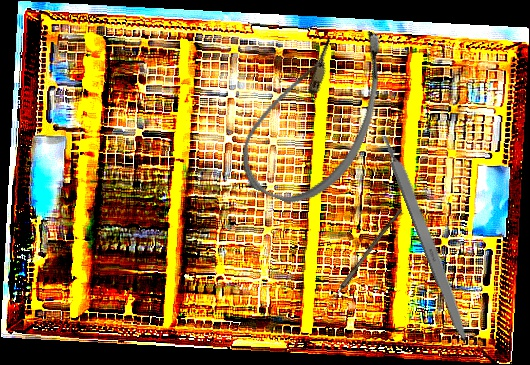Cannula: (229, 3, 404, 221)
Scalpel Handle: (380, 132, 474, 345)
Surgical Spoon: (319, 206, 403, 318)
